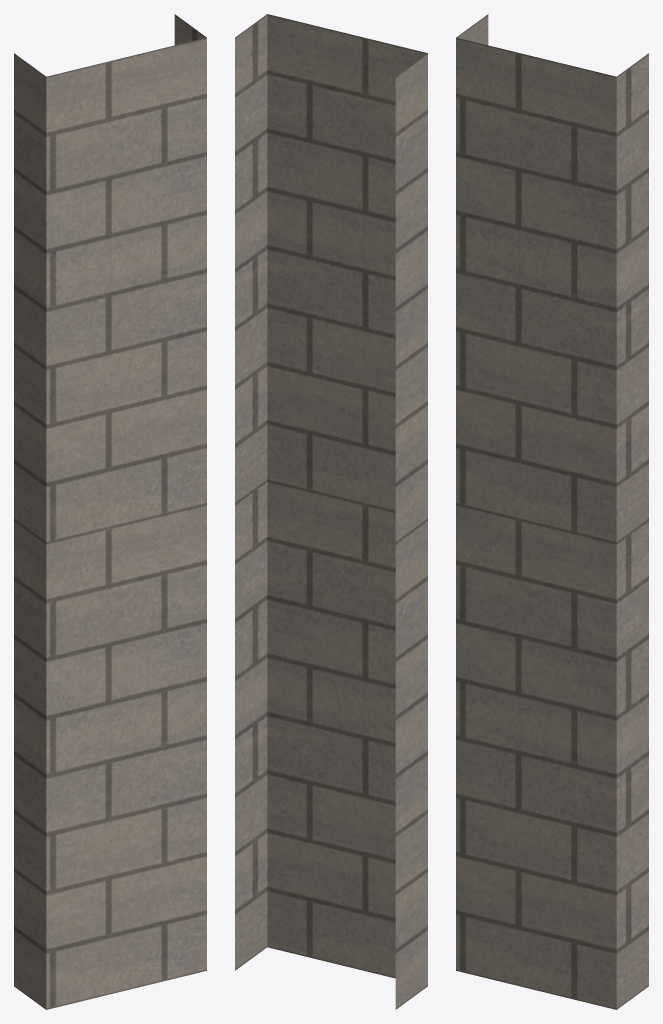
File: WhiteBrick_Column_Half.gltf
3 renders of one model, left to right at view 1: azimuth 30°, elevation 25°; view 2: azimuth 150°, elevation 25°; view 3: azimuth 330°, elevation 25°, orthographic.
Visible parts, largest first — view 1: WhiteBrick_Column_Half; view 2: WhiteBrick_Column_Half; view 3: WhiteBrick_Column_Half.
Part boxes in pixels (x1=…): WhiteBrick_Column_Half: x1=14, y1=14, x2=206, y2=1009; WhiteBrick_Column_Half: x1=235, y1=14, x2=427, y2=1009; WhiteBrick_Column_Half: x1=456, y1=14, x2=648, y2=1009.
Size of what is drawn, in the model's own units: 0.72 by 4 by 0.25.
1 material, 1 textured.
